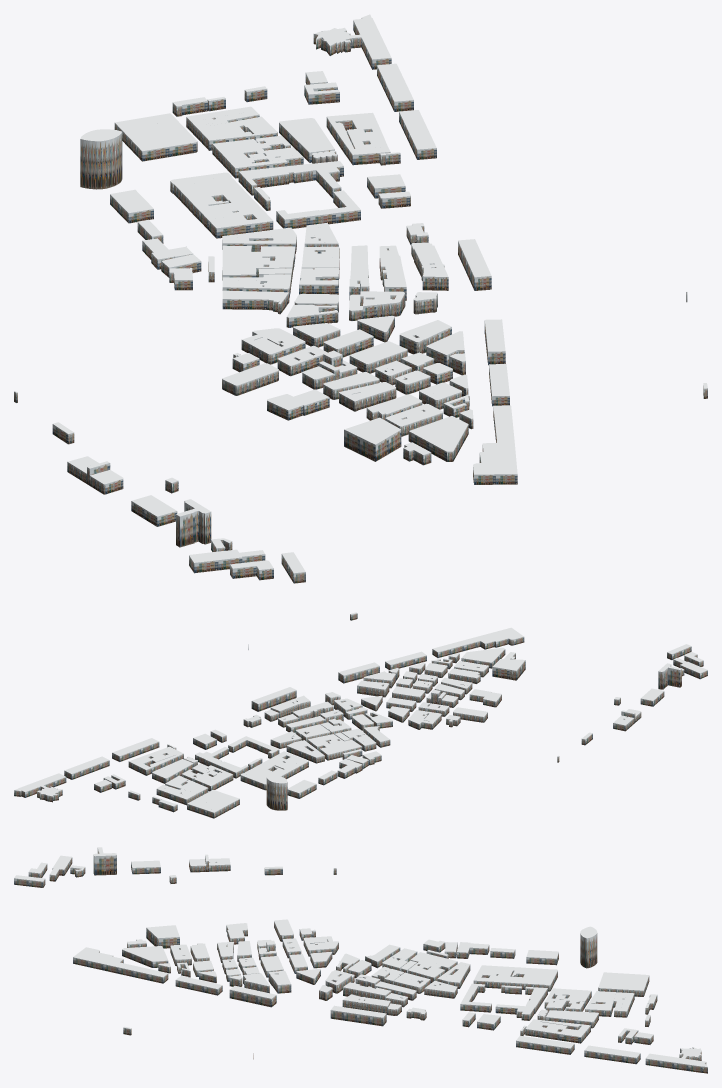
The model's file is recife_casaroes_historicos_bairro.glb.
3 views of the same model, one above another, from view 1: azimuth 30°, elevation 25°; view 2: azimuth 150°, elevation 25°; view 3: azimuth 270°, elevation 25° (orthographic). The views are drawn at different scales.
Parts seen in each view (by area): view 1: recife_casaroes_historicos_bairro; view 2: recife_casaroes_historicos_bairro; view 3: recife_casaroes_historicos_bairro.
Part boxes in pixels (left/top/right/bottom): recife_casaroes_historicos_bairro: left=14, top=14, right=707, bottom=583; recife_casaroes_historicos_bairro: left=14, top=612, right=707, bottom=818; recife_casaroes_historicos_bairro: left=14, top=847, right=707, bottom=1073.
Size of the model in its own units: 908 by 60.2 by 1258.
Materials: 1 (1 with a texture image).
